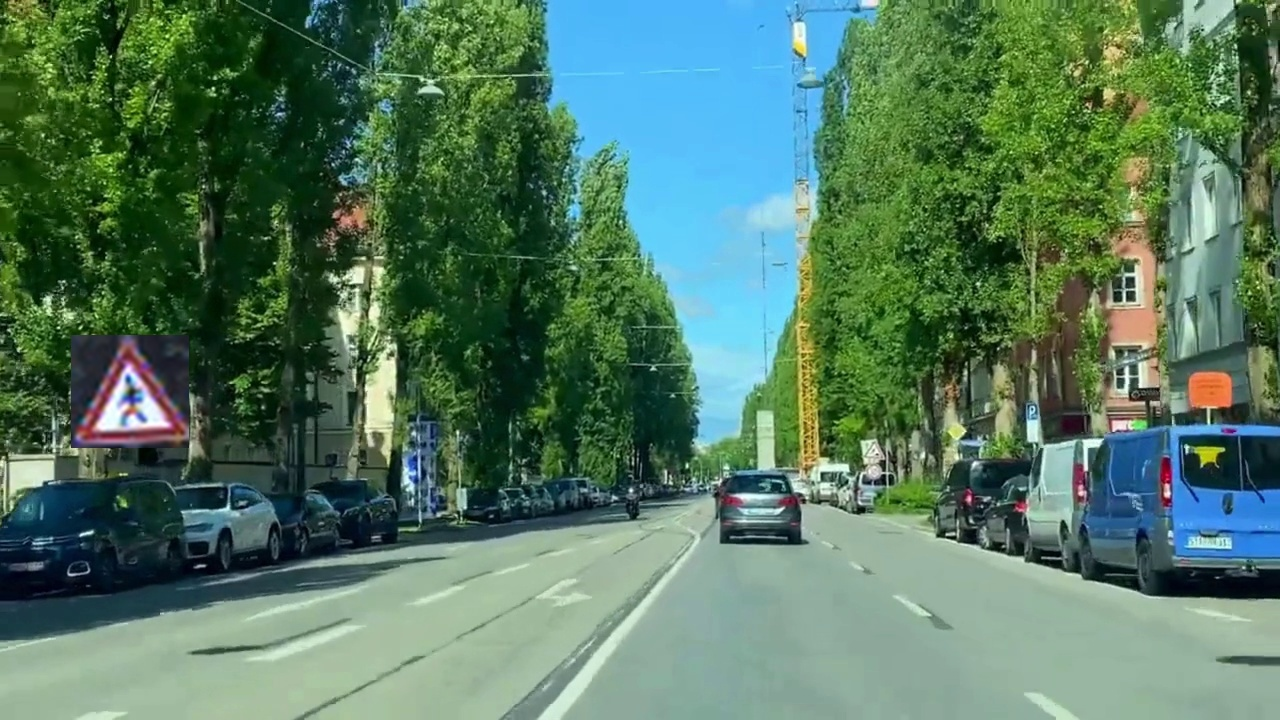Pedestrians: (71, 335, 189, 448)
